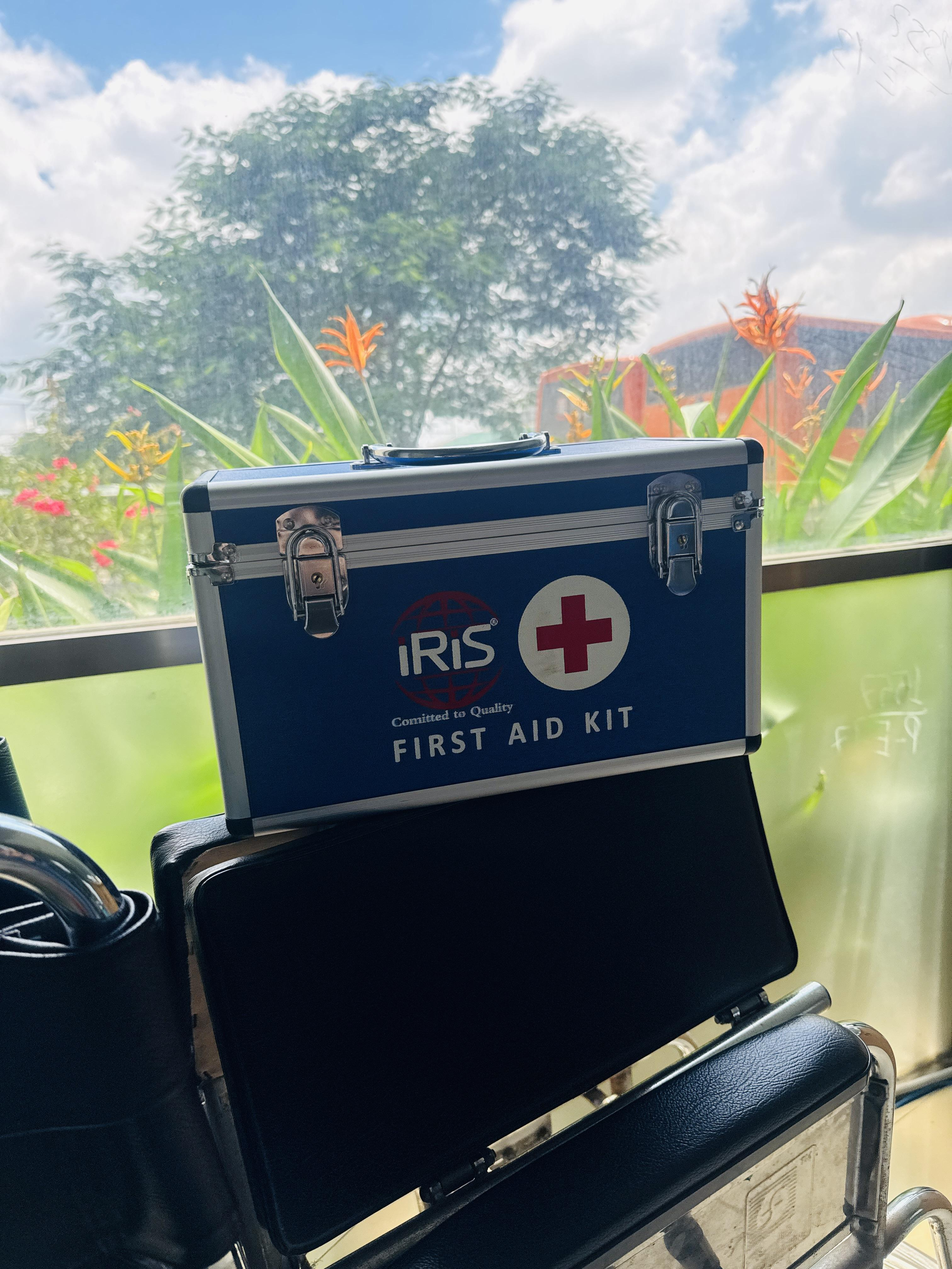FirstAidBox: (150, 401, 801, 854)
